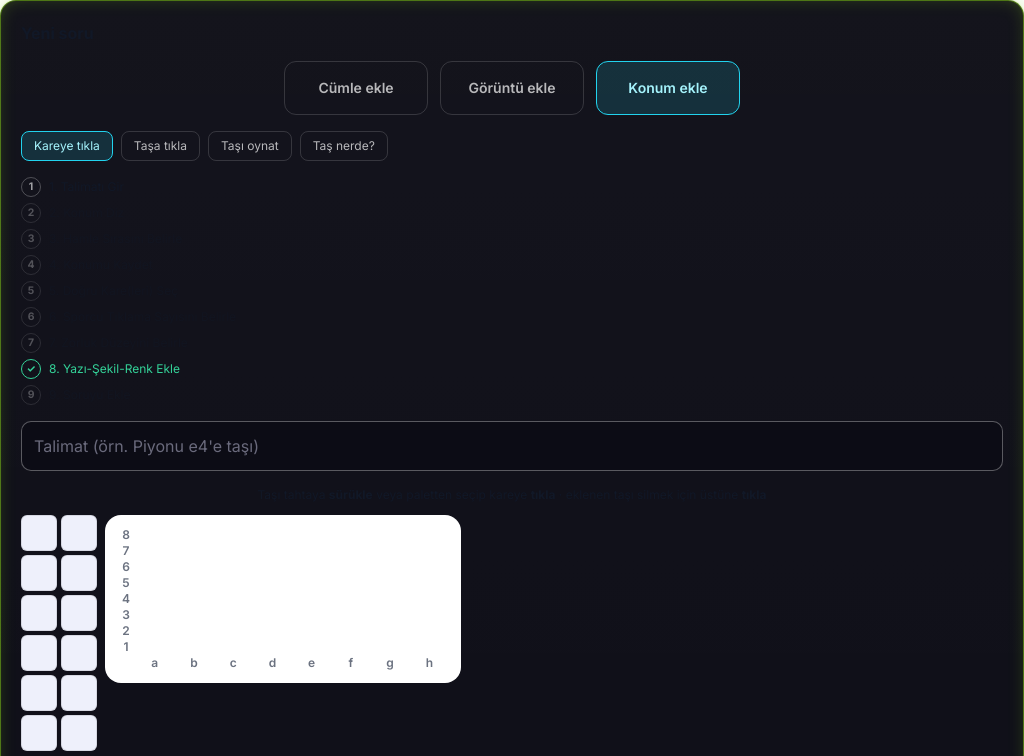
Test case: ExerciseForm — 3 soru ailesi kartı › Cümle ekle karta tıklayınca cümle formu açılır
This screenshot has width=1024, height=756.
Click the button "Cümle ekle" at point(356, 88), box [284,61,428,115]
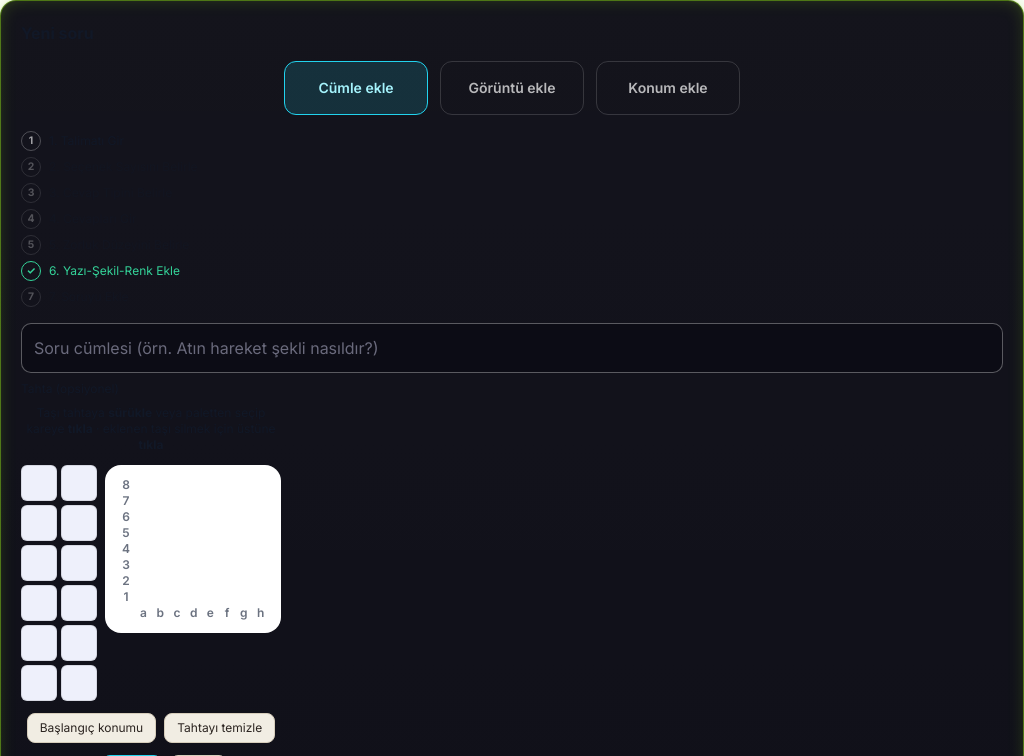
expect the field with placeholder "Talimat (örn." is not shown: met
expect the field with placeholder "Soru cümlesi (örn. Atın hareket şekli nasıldır?)" is shown: met, box [21,323,1003,373]
